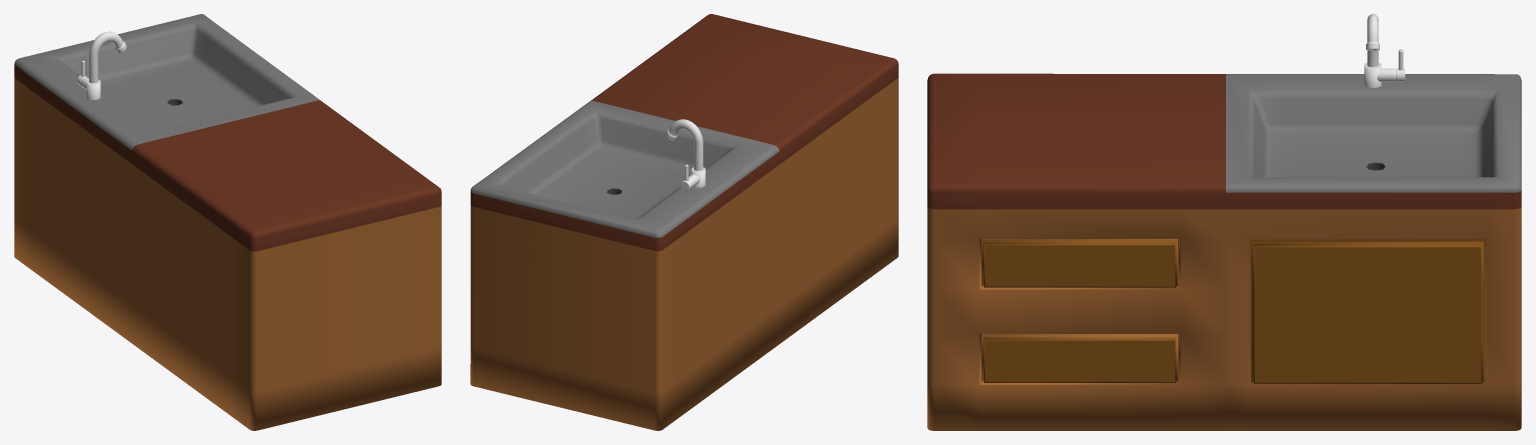
The model's file is Pia_cozinha.fbx.
3 views of the same model, side by side, from view 1: azimuth 30°, elevation 25°; view 2: azimuth 150°, elevation 25°; view 3: azimuth 270°, elevation 25° (orthographic). The views are drawn at different scales.
Parts seen in each view (by area): view 1: Cube.060, Cylinder.029; view 2: Cube.060, Cylinder.029; view 3: Cube.060, Cylinder.029.
Boxes of the visible parts, x1,y1,x2,y2 form: Cube.060: [14, 14, 441, 430]; Cylinder.029: [86, 31, 126, 99]; Cube.060: [470, 14, 898, 430]; Cylinder.029: [665, 119, 705, 187]; Cube.060: [927, 73, 1521, 430]; Cylinder.029: [1364, 14, 1381, 87].
Bounding box in the file's own units: 1928 × 2430 × 4086.
